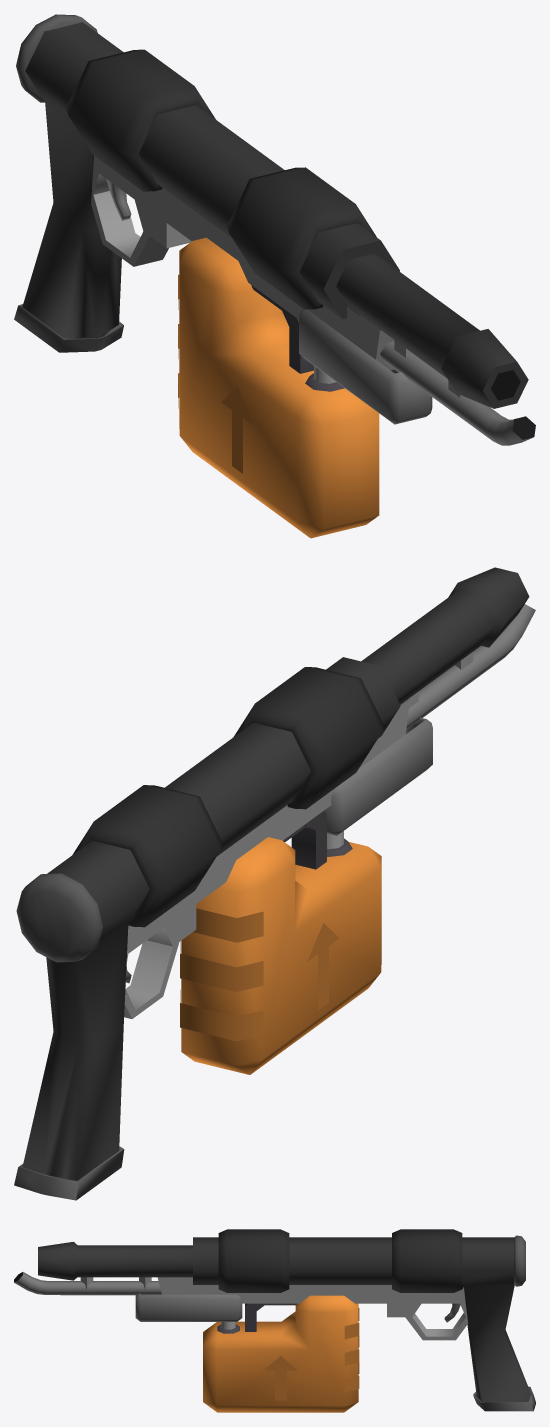
The model's file is Flamethrower.fbx.
3 views of the same model, one above another, from view 1: azimuth 30°, elevation 25°; view 2: azimuth 150°, elevation 25°; view 3: azimuth 270°, elevation 25° (orthographic). The views are drawn at different scales.
Parts seen in each view (by area): view 1: Flamethrower; view 2: Flamethrower; view 3: Flamethrower.
Boxes of the visible parts, left/top/right/bottom form: Flamethrower: left=14, top=14, right=535, bottom=538; Flamethrower: left=14, top=567, right=535, bottom=1200; Flamethrower: left=14, top=1229, right=535, bottom=1412.
Size of the model in its own units: 11.53 by 33.78 by 94.4.
